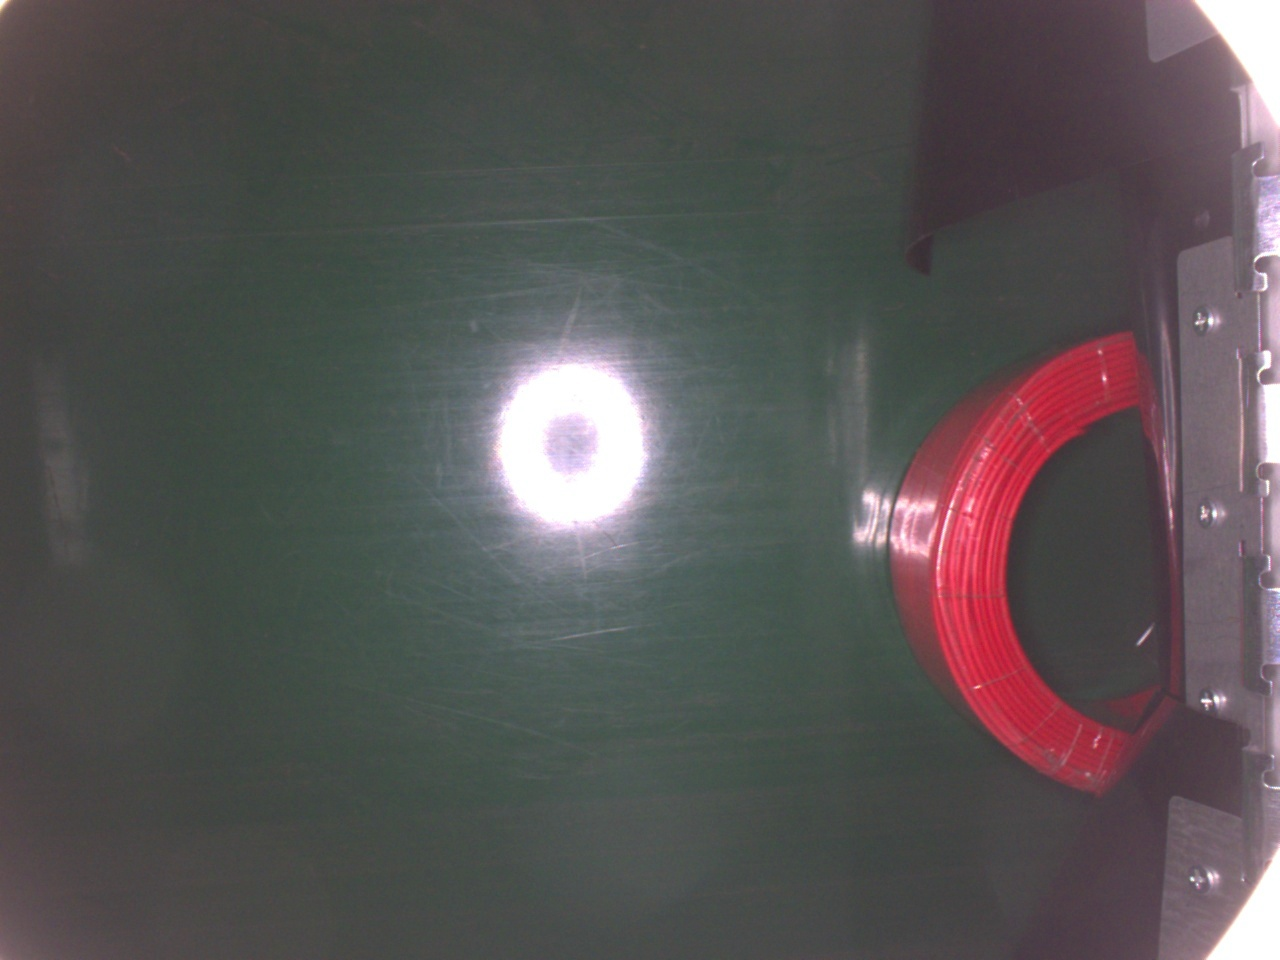red: (886, 321, 1174, 805)
